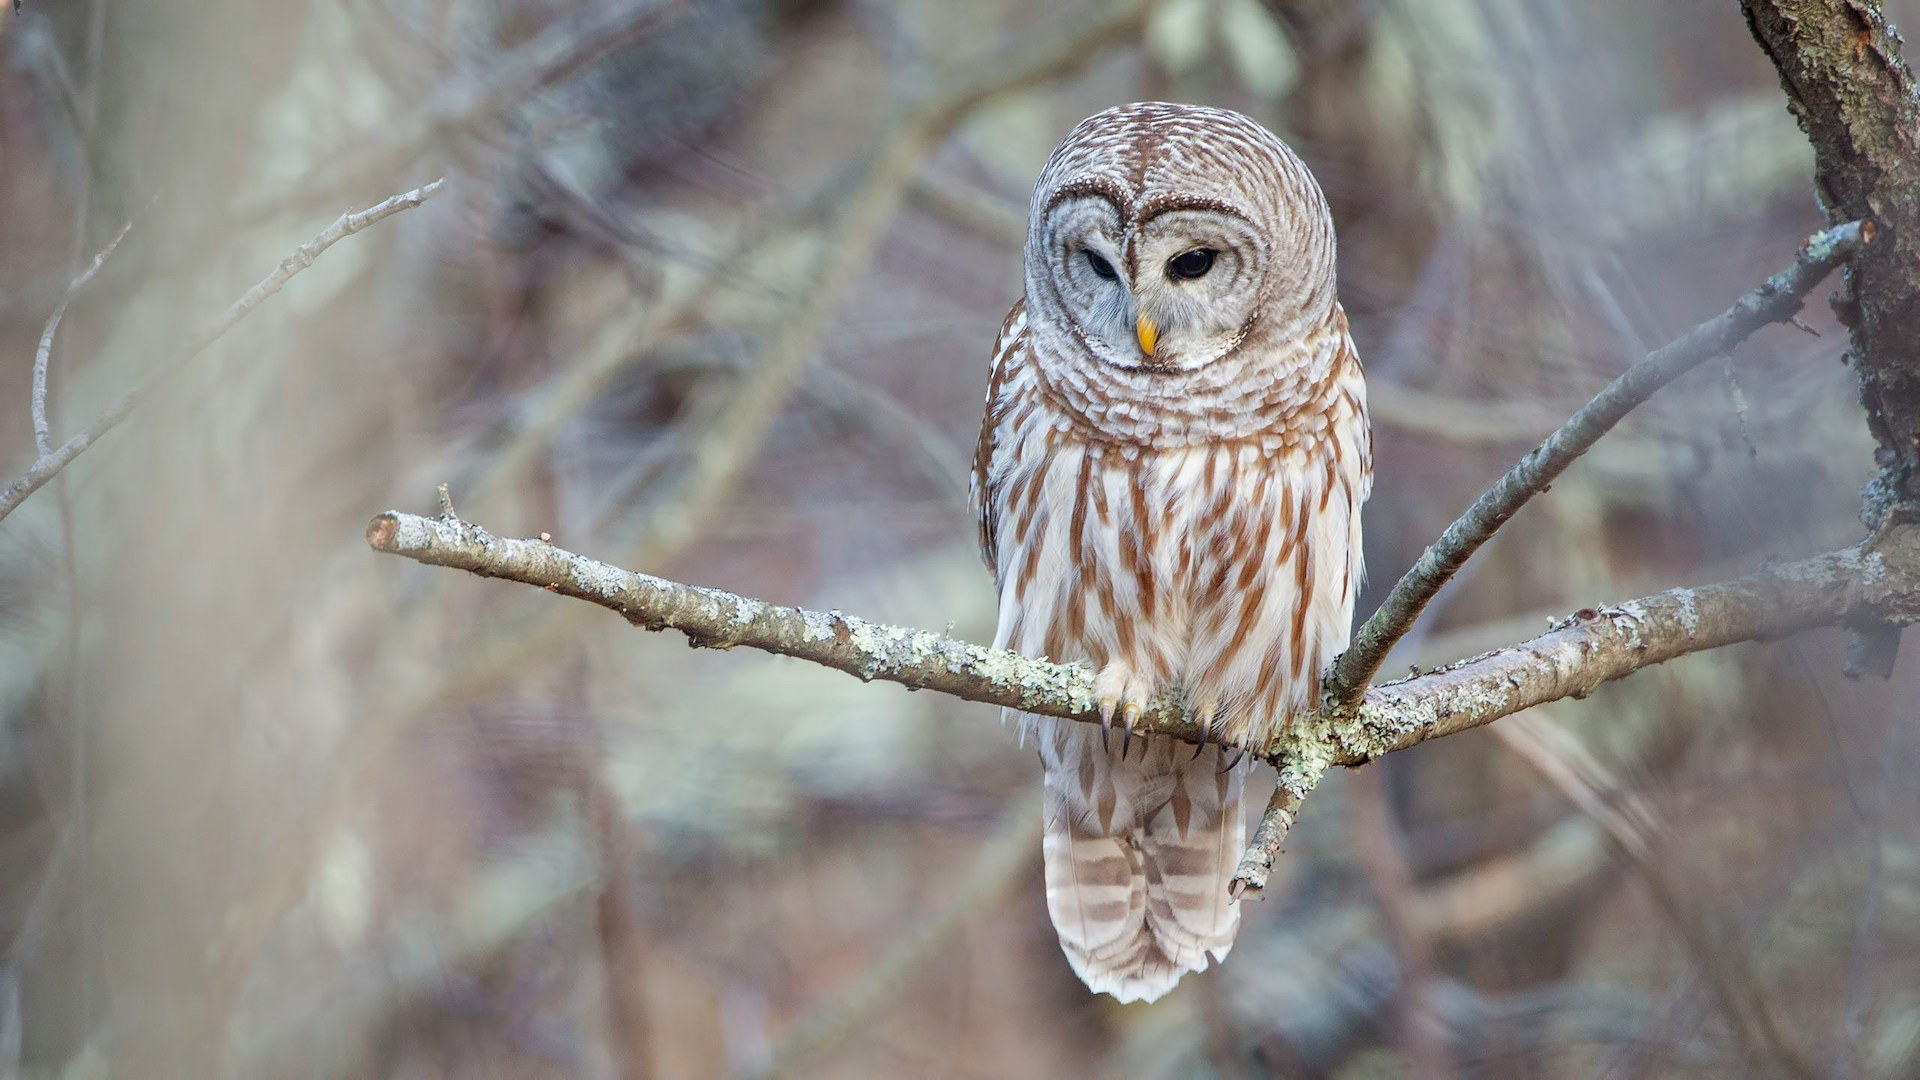owl: (955, 88, 1389, 1007)
